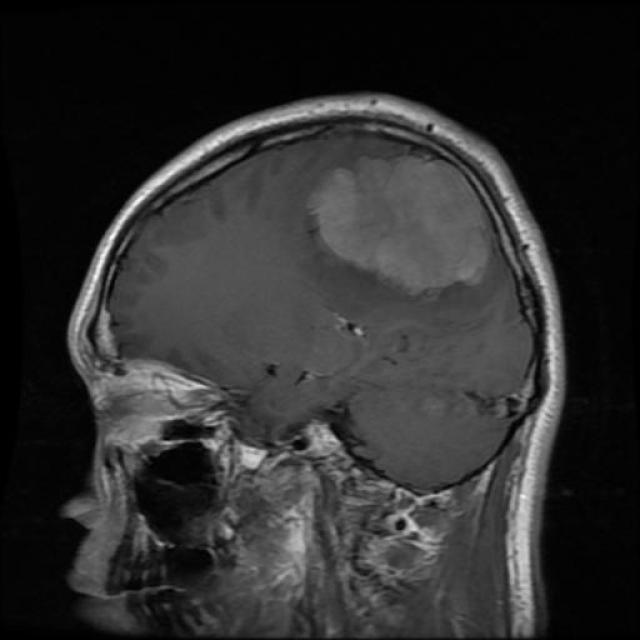meningioma: (309, 155, 491, 292)
